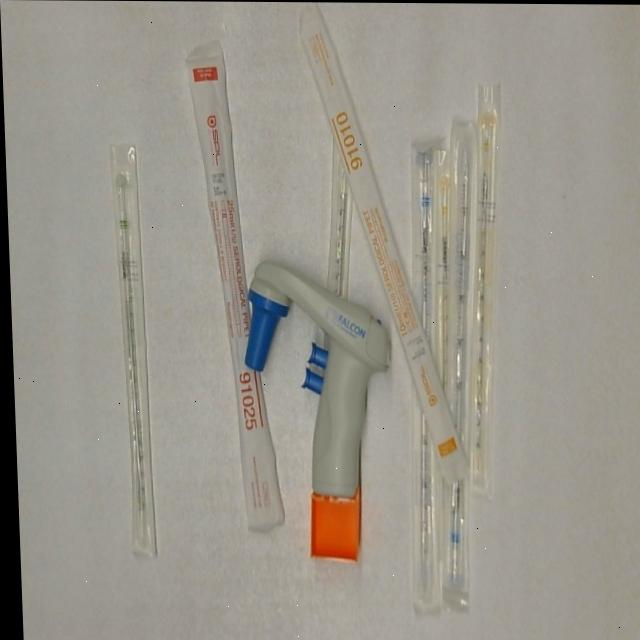Pipette Controller: (240, 262, 398, 558)
Serelogical Pipet 1 mL - Sealed: (451, 81, 517, 496), (421, 147, 466, 399)
Serelogical Pipet 10 mL - Sealed: (295, 6, 464, 485)
Serelogical Pipet 2 mL - Sealed: (110, 142, 156, 561)
Serelogical Pipet 25 mL - Sealed: (183, 36, 295, 535)
Serelogical Pipet 5 mL - Sealed: (424, 116, 493, 595), (393, 131, 453, 613)
